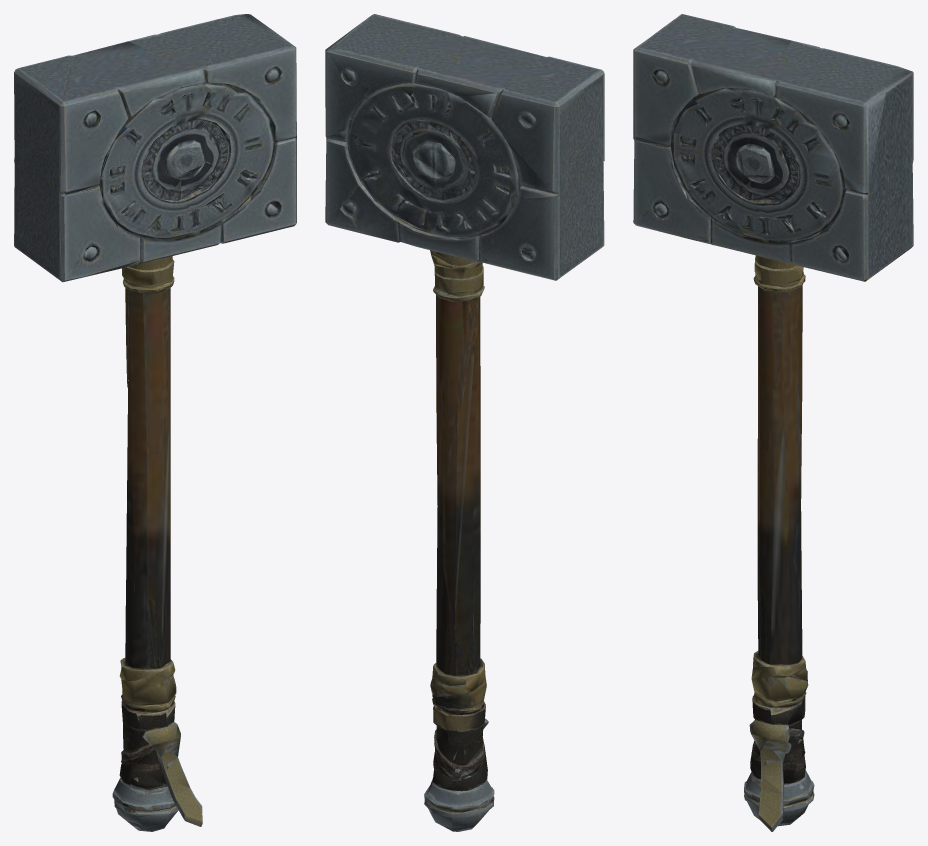
Rendered from weapon-warhammer.glb.
The picture shows the model from 3 angles, left to right: view 1: azimuth 30°, elevation 25°; view 2: azimuth 150°, elevation 25°; view 3: azimuth 330°, elevation 25°; orthographic projection.
Size of the model in its own units: 0.2557 by 0.8008 by 0.099.
1 material, 1 textured.
